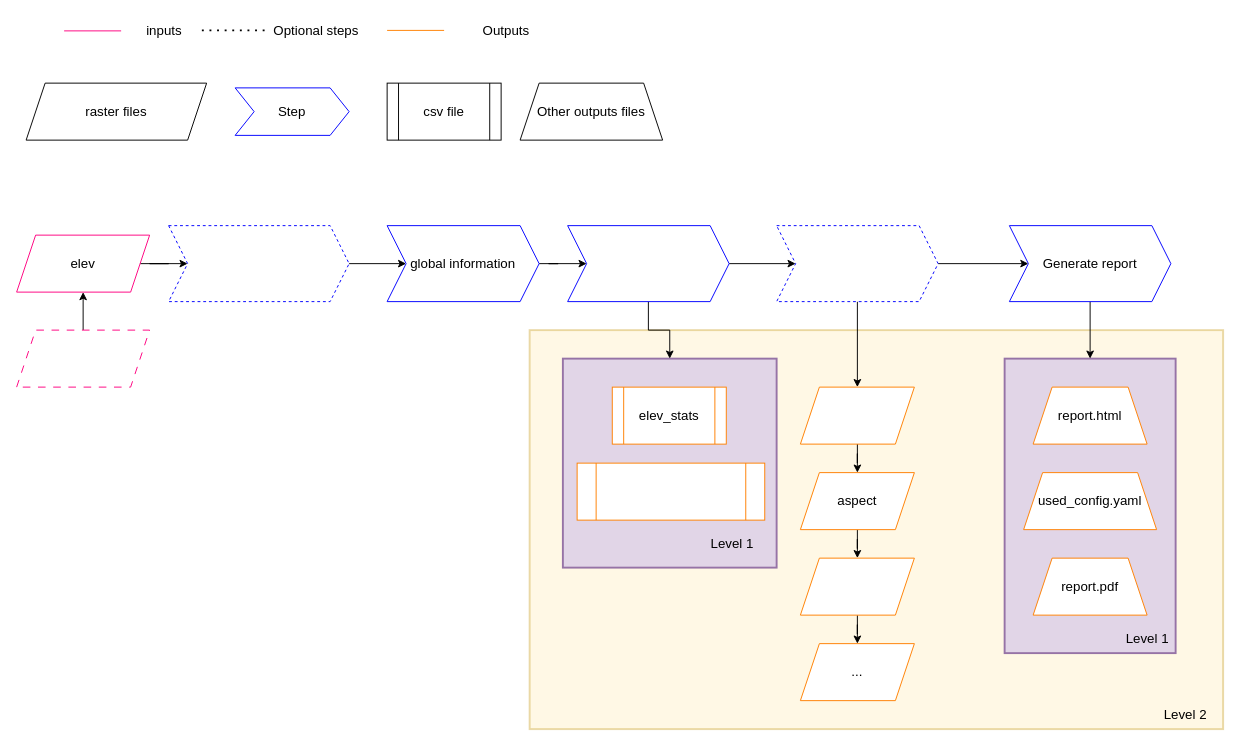
The diagram is 1241 pixels wide and 746 high, and some of its shapes have lost their labels. Here are the shapes that lost their labels. From the top down, the centre of each, then its label:
the point at 258,263: Vertical referencement
the point at 648,263: Statistics
the point at 857,263: Terrain attributes
the point at 83,358: mask
the point at 856,415: slope
the point at 670,491: elev_stats_mask_stat
the point at 856,586: max_curvature
